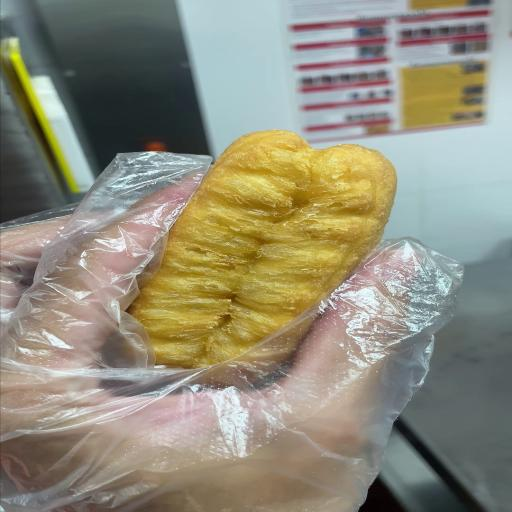brand_golden_good: (131, 130, 395, 367)
